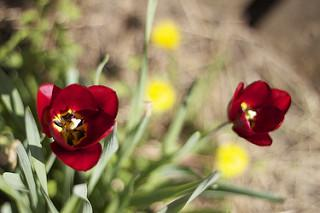tulip: (36, 82, 120, 172), (230, 80, 290, 149)
